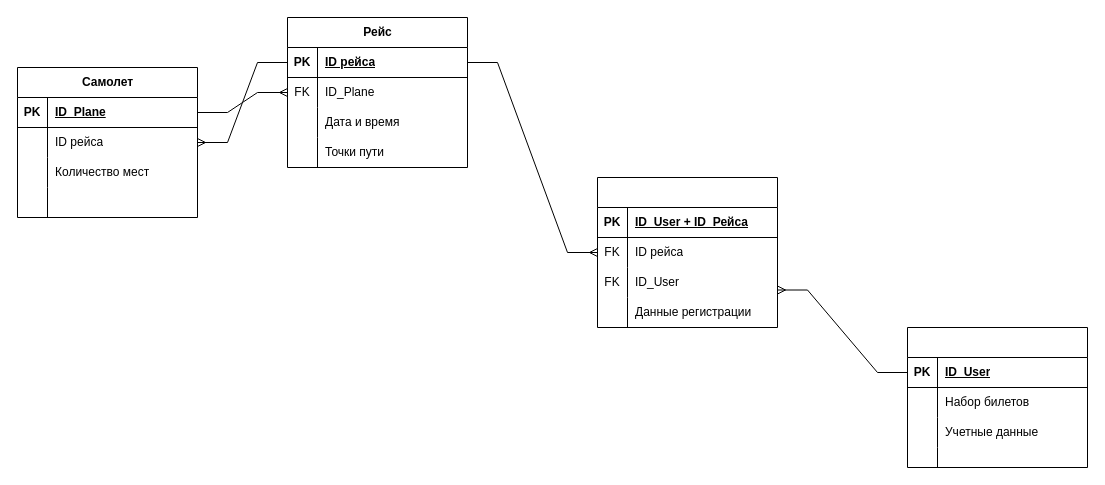
This 1105x485 diagram has some shape labels left out. Here are the shapes that lost their labels. From the top down, the box of each, then its label:
(596, 176, 778, 328): Билет
(906, 326, 1088, 468): Пользователь
